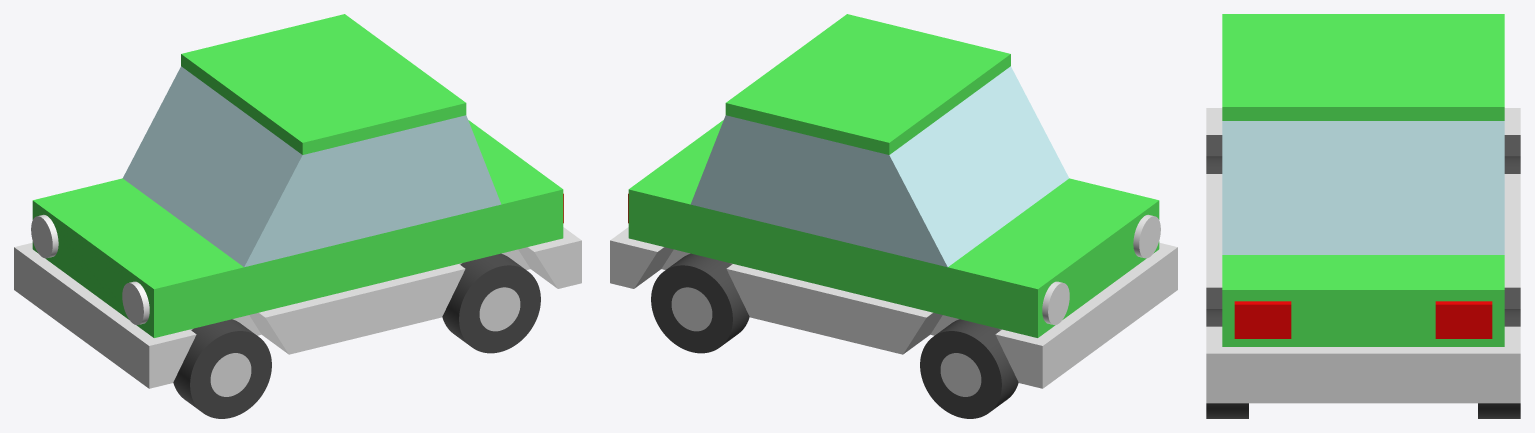
Rendered from stylized-car.glb.
3 renders of one model, left to right at view 1: azimuth 30°, elevation 25°; view 2: azimuth 150°, elevation 25°; view 3: azimuth 270°, elevation 25°, orthographic. The views are drawn at different scales.
Size of the model in its own units: 3.7 by 2.05 by 2.
